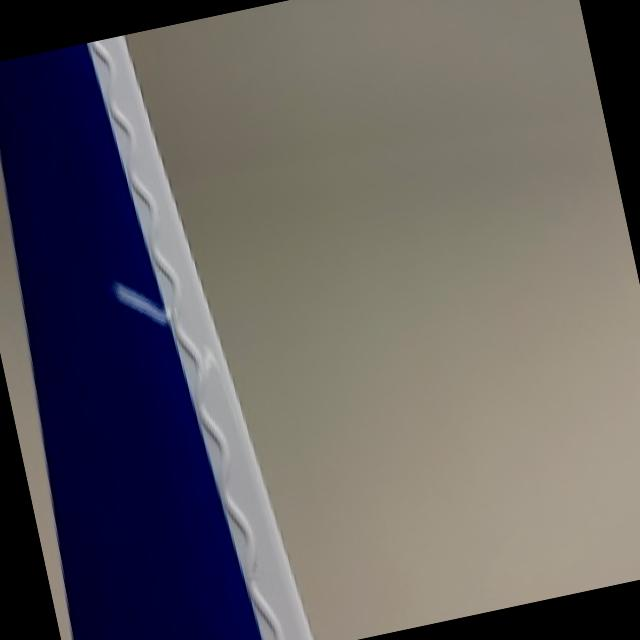healthy: (0, 35, 309, 640)
